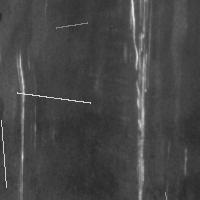scratches: (128, 1, 154, 200), (14, 43, 32, 198), (12, 87, 95, 107), (0, 115, 11, 192), (51, 18, 92, 33), (160, 187, 180, 200)
